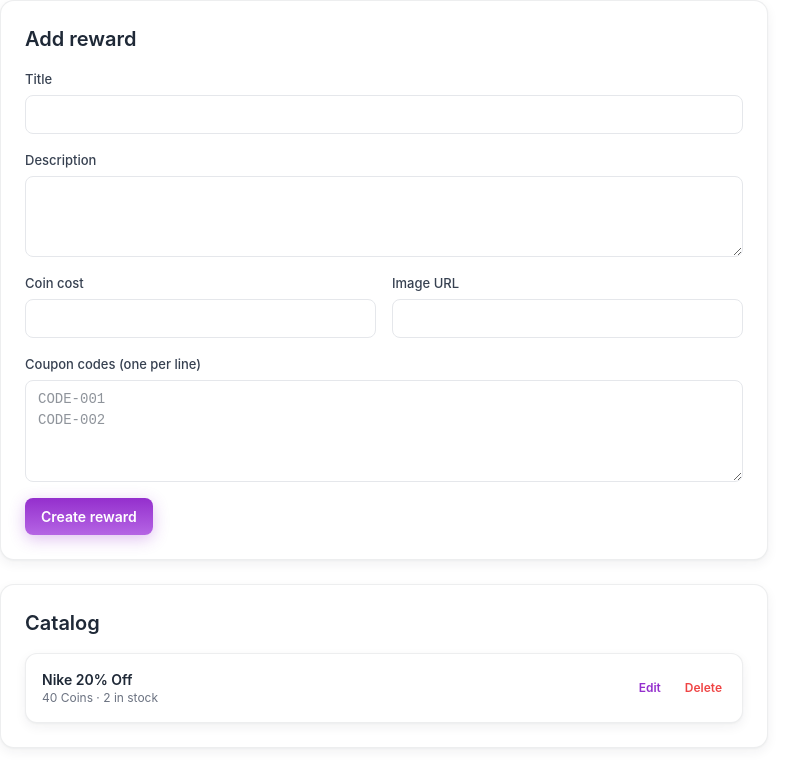
Test: RewardManagementTab › cancels edit mode and restores the create form
This screenshot has width=785, height=768.
Click the button "Edit". click: (650, 688)
box: left=635, top=680, right=665, bottom=696
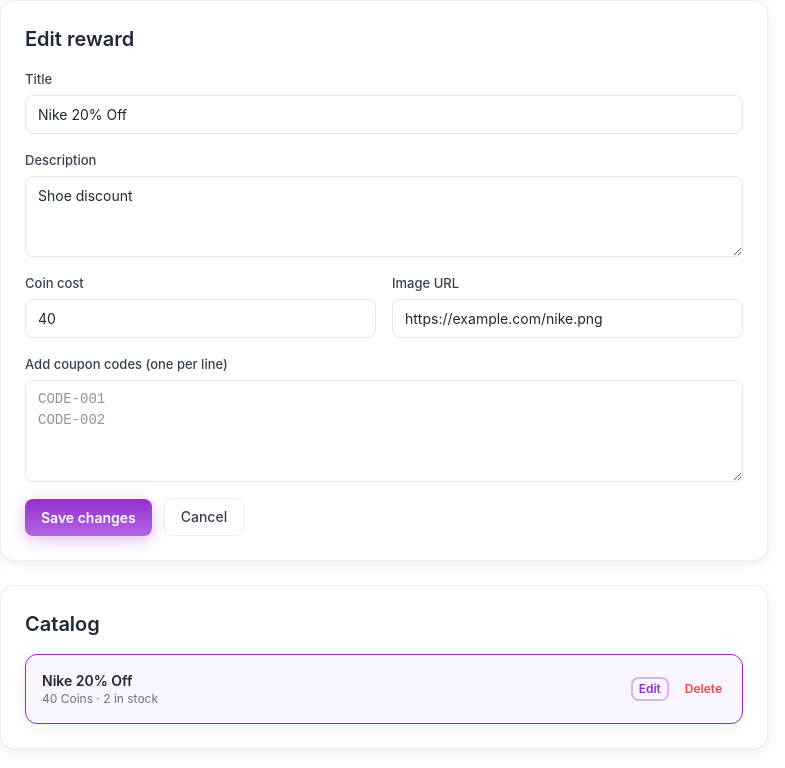
Click the button "Cancel". click: (204, 517)
box: left=164, top=498, right=244, bottom=536
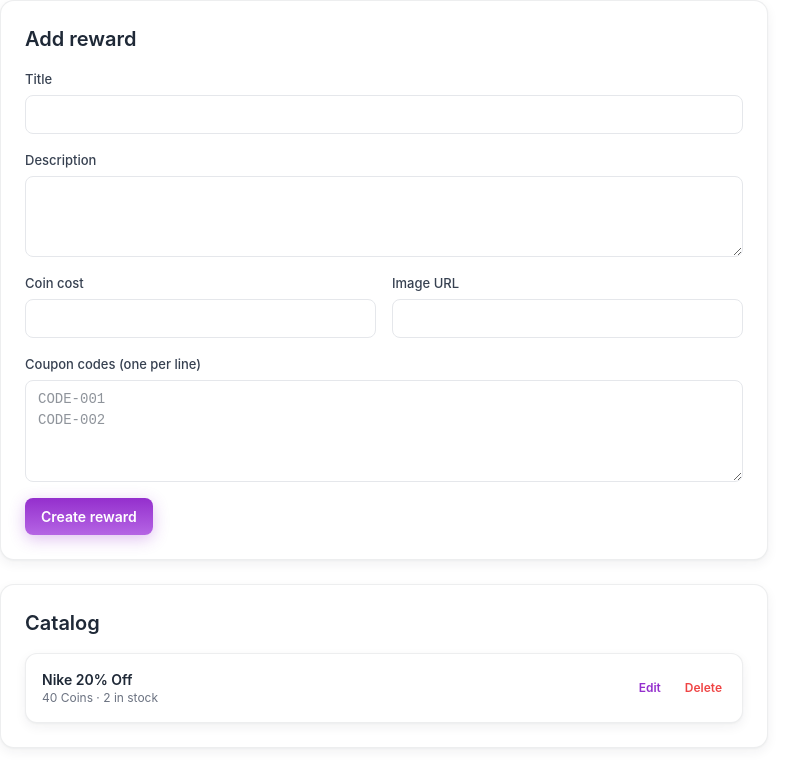
Expected: the heading "Add reward" is shown, left=25, top=27, right=136, bottom=51
Expected: the button "Create reward" is shown, left=25, top=498, right=153, bottom=535
